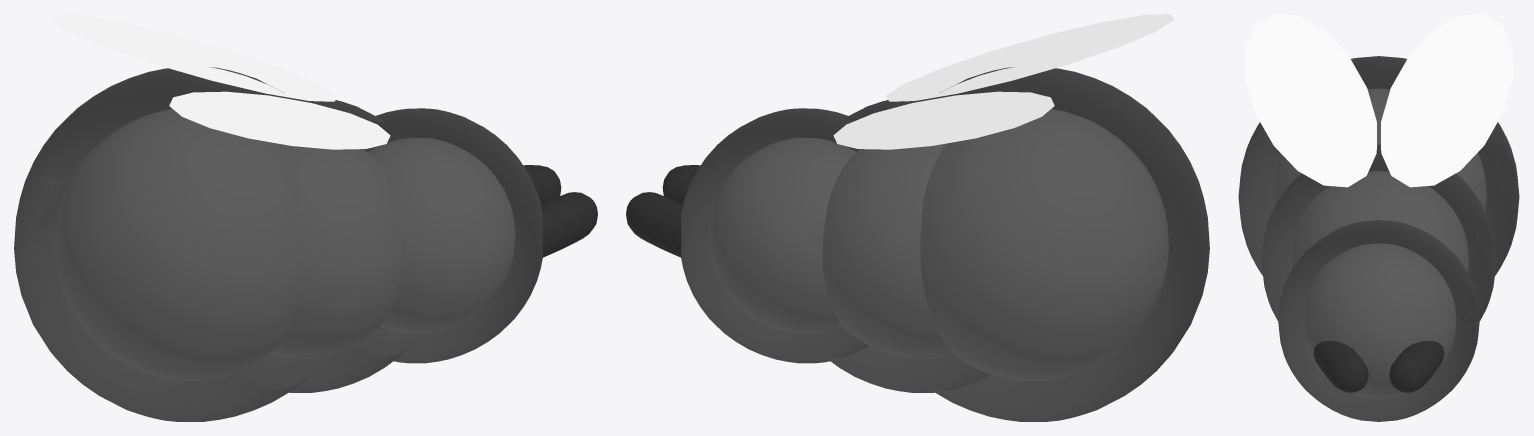
The model's file is queen.glb.
3 views of the same model, side by side, from view 1: azimuth 30°, elevation 25°; view 2: azimuth 150°, elevation 25°; view 3: azimuth 270°, elevation 25° (orthographic). The views are drawn at different scales.
Visible parts, largest first — view 1: Icosphere.032; view 2: Icosphere.032; view 3: Icosphere.032.
Boxes of the visible parts, <box> form: Icosphere.032: <box>14,14,597,421</box>; Icosphere.032: <box>626,14,1209,421</box>; Icosphere.032: <box>1238,14,1519,421</box>.
Size of the model in its own units: 11.35 by 7.17 by 6.48.
Materials: 1 (1 with a texture image).
